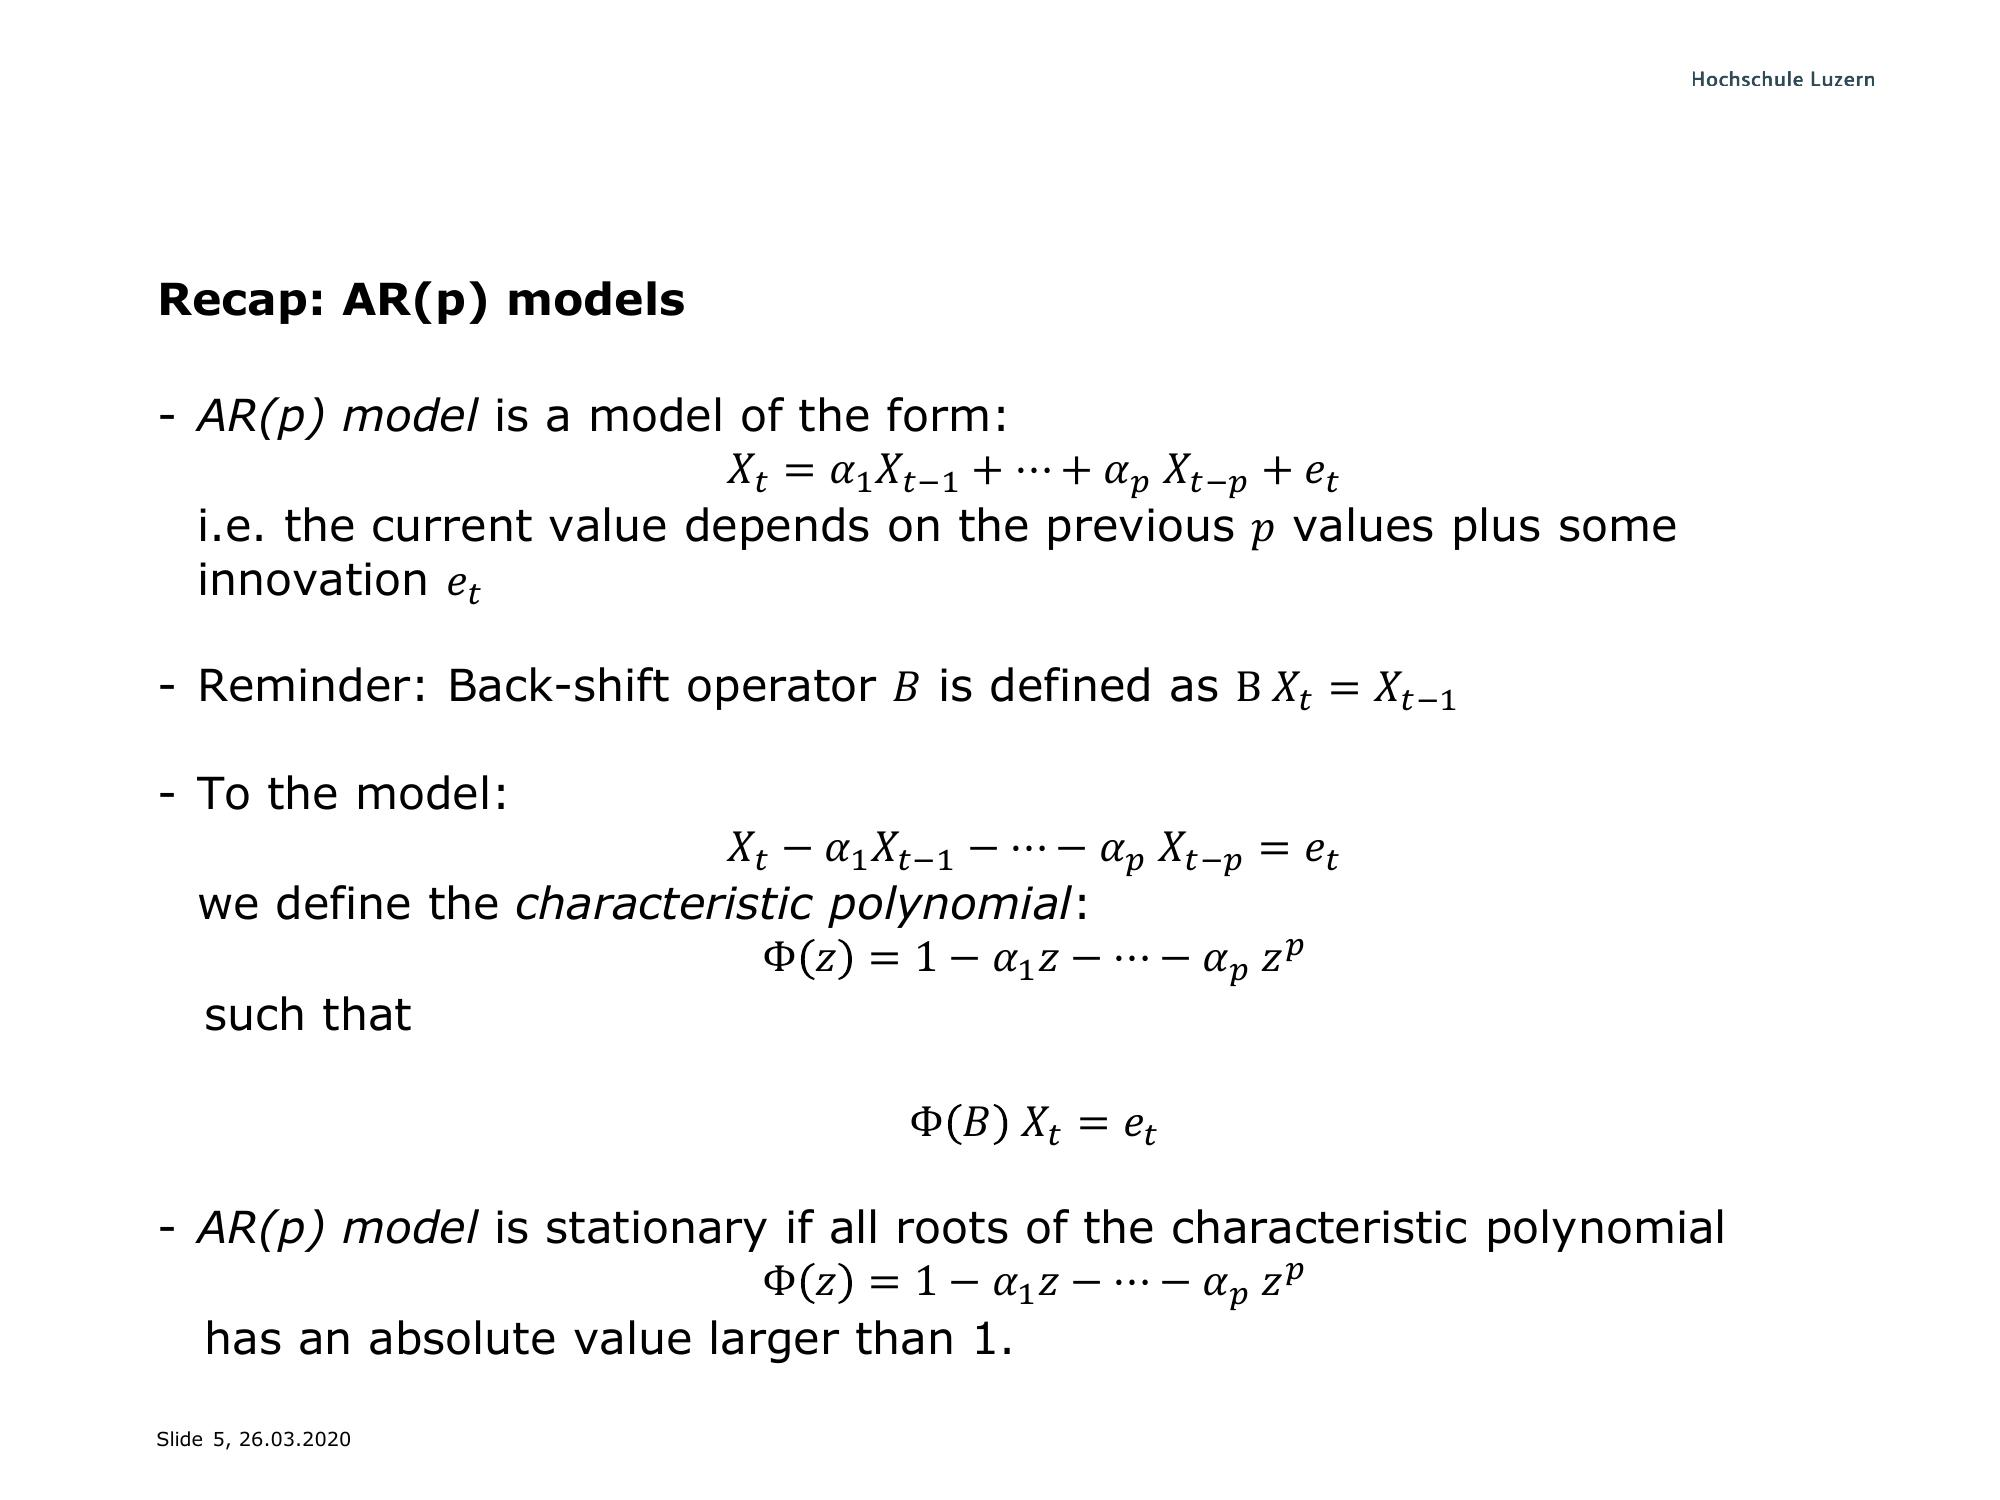Title: (131, 235, 710, 347)
